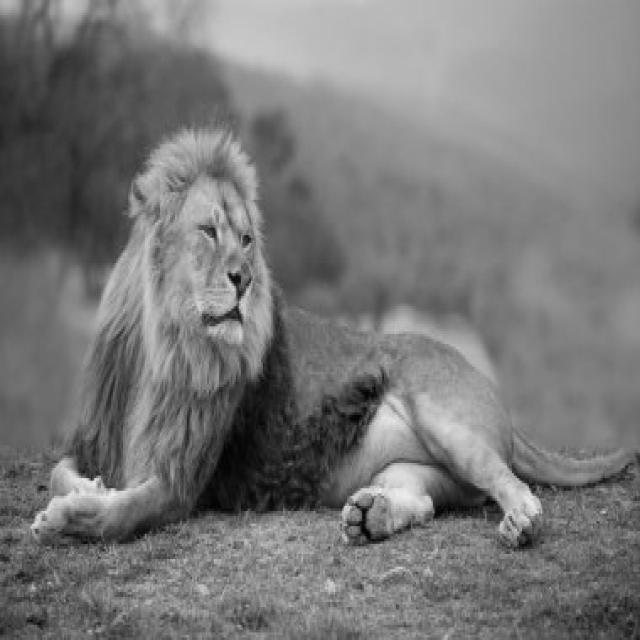Animal: (33, 128, 630, 545)
